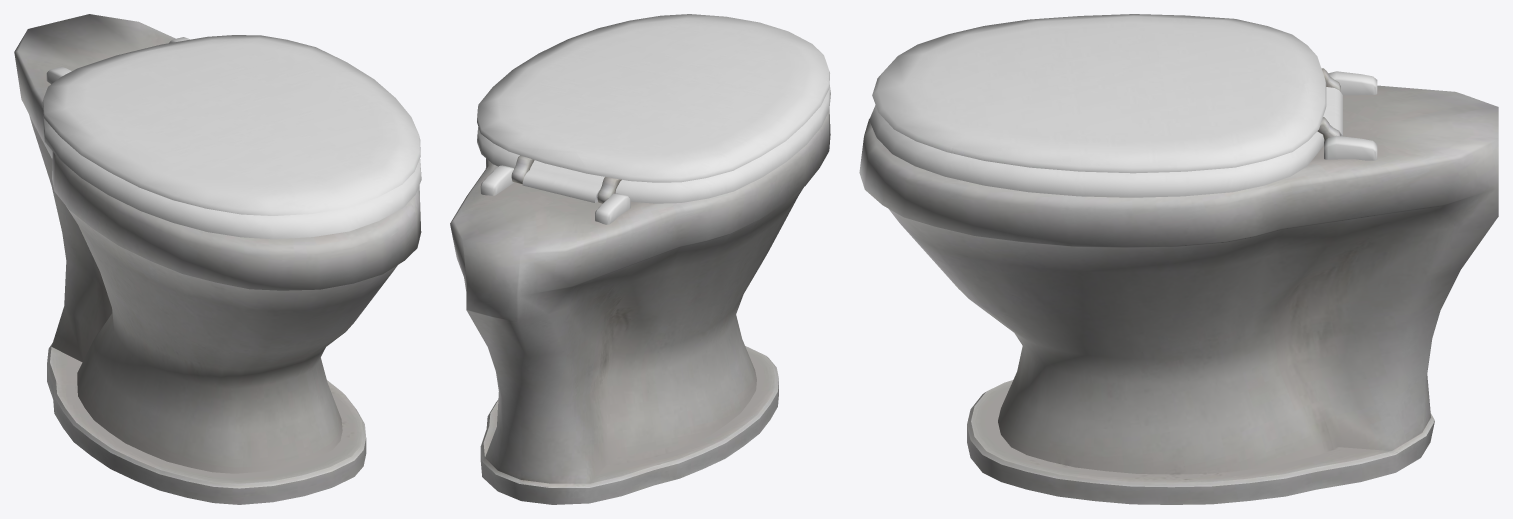
File: SM_Toilet_Bowl_01.glb
3 views of the same model, side by side, from view 1: azimuth 30°, elevation 25°; view 2: azimuth 150°, elevation 25°; view 3: azimuth 270°, elevation 25° (orthographic). The views are drawn at different scales.
Visible parts, largest first — view 1: SM_Toilet_Bowl_01; view 2: SM_Toilet_Bowl_01; view 3: SM_Toilet_Bowl_01.
Part boxes in pixels (x1=…): SM_Toilet_Bowl_01: x1=14, y1=14, x2=421, y2=504; SM_Toilet_Bowl_01: x1=450, y1=14, x2=830, y2=504; SM_Toilet_Bowl_01: x1=859, y1=14, x2=1498, y2=504.
Size of the model in its own units: 0.48 by 0.5205 by 0.8362.
Materials: 1 (1 with a texture image).
